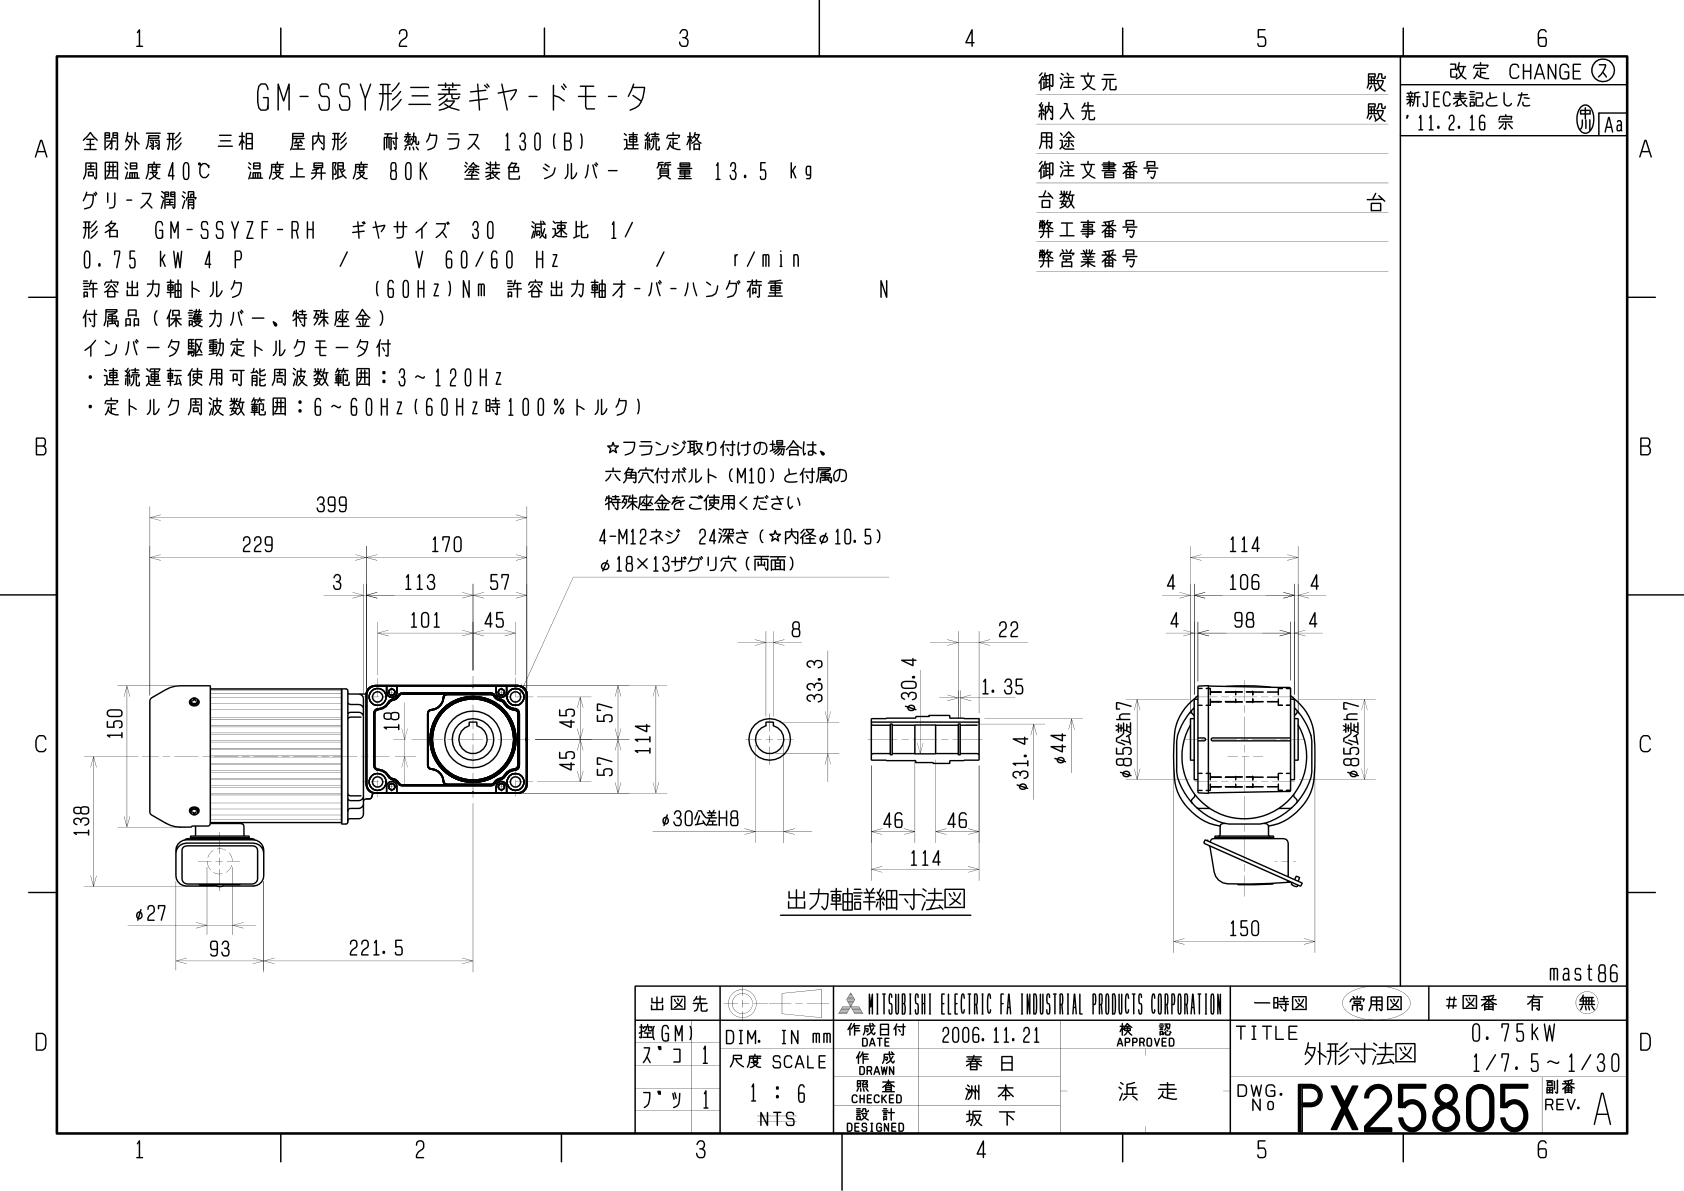GM_SSY_インバータ屋内_三相: (9, 5, 1684, 1191)
